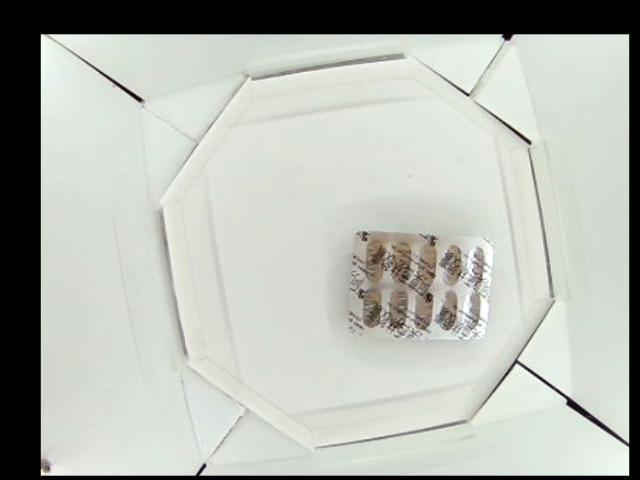Medicine: (344, 229, 494, 340)
